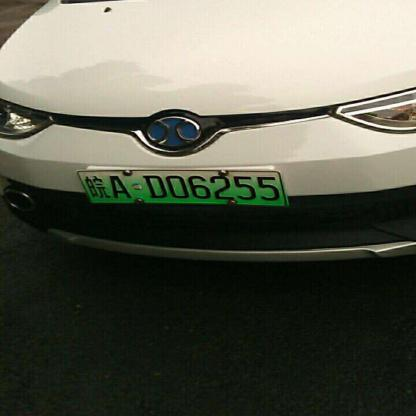lp: (76, 170, 287, 206)
